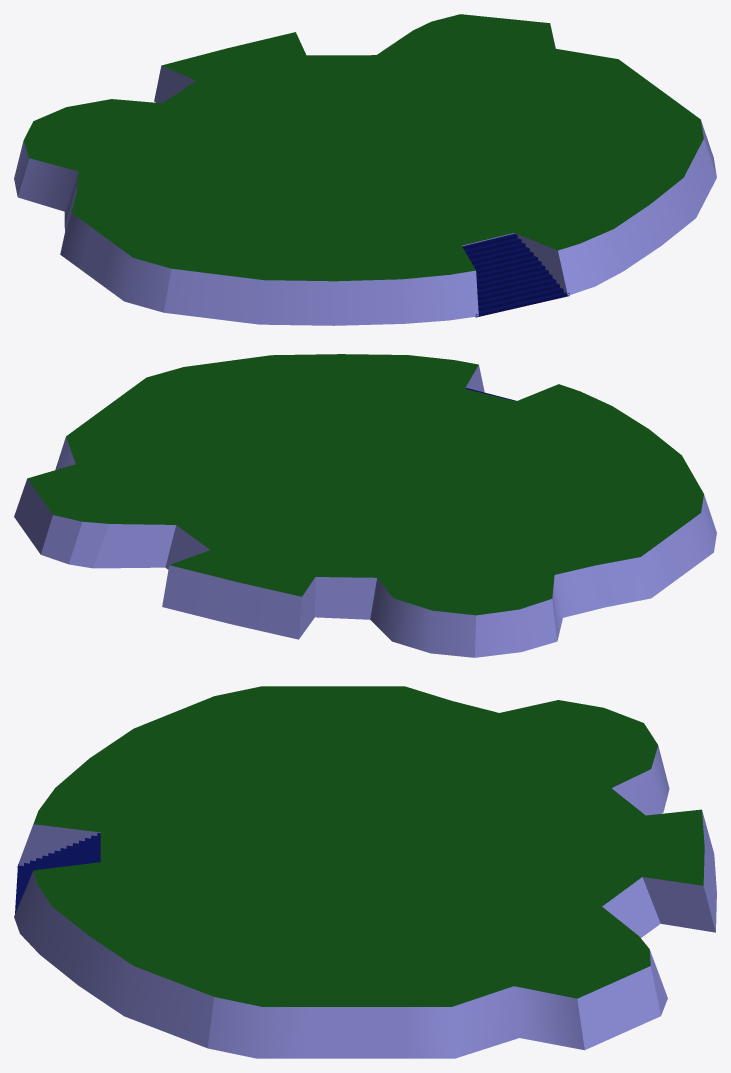
The model's file is nightwing highground.FBX.
3 renders of one model, top to bottom at view 1: azimuth 30°, elevation 25°; view 2: azimuth 150°, elevation 25°; view 3: azimuth 270°, elevation 25°, orthographic. The views are drawn at different scales.
Parts seen in each view (by area): view 1: Box002, StraightStair001; view 2: Box002; view 3: Box002, StraightStair001.
Part boxes in pixels (x1,y1,x2,y2): Box002: (14, 14, 716, 325); StraightStair001: (462, 233, 569, 317); Box002: (14, 354, 716, 657); Box002: (14, 686, 716, 1058); StraightStair001: (14, 833, 100, 916).
Bounding box in the file's own units: 73.89 × 4.85 × 65.92.
